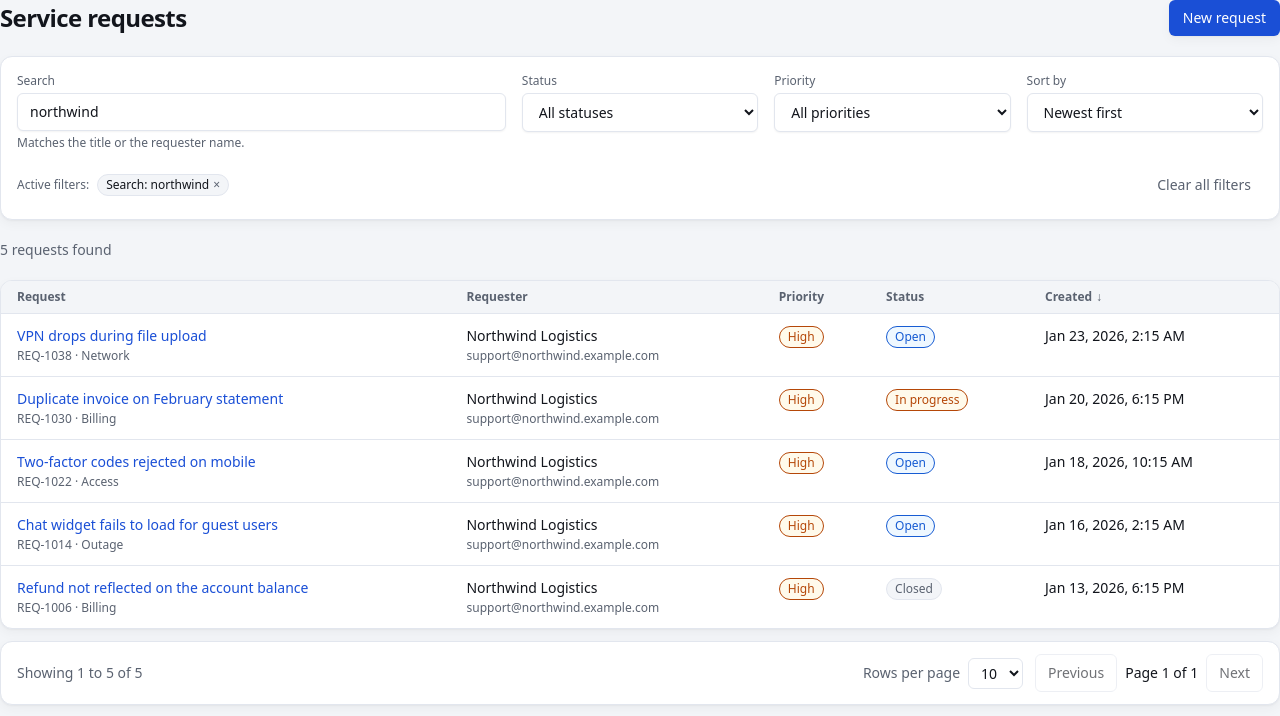
it: RequestsListPage › drops the search term when its chip is removed
The width and height of the screenshot is (1280, 716).
Click the button named "Remove filter Search: northwind" at (217, 185), box [213,177,220,193]
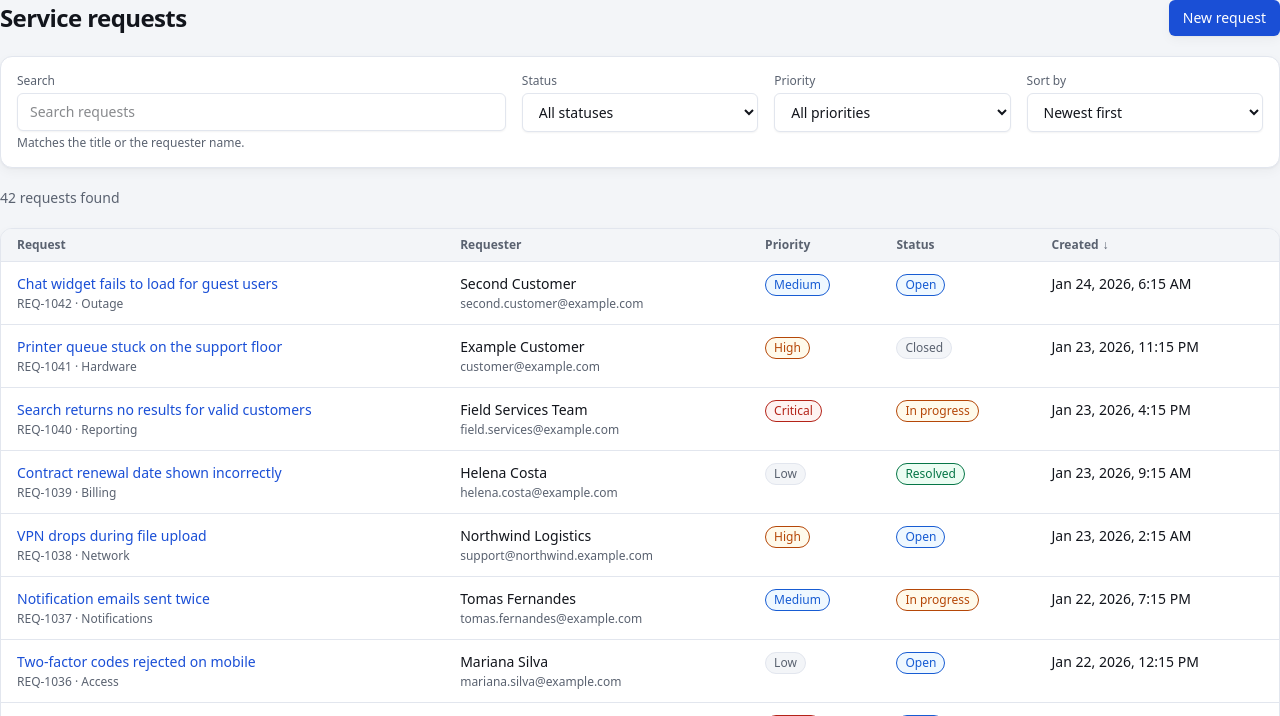
Check: the search field labelled "Search" is empty, box [17,93,506,131]
